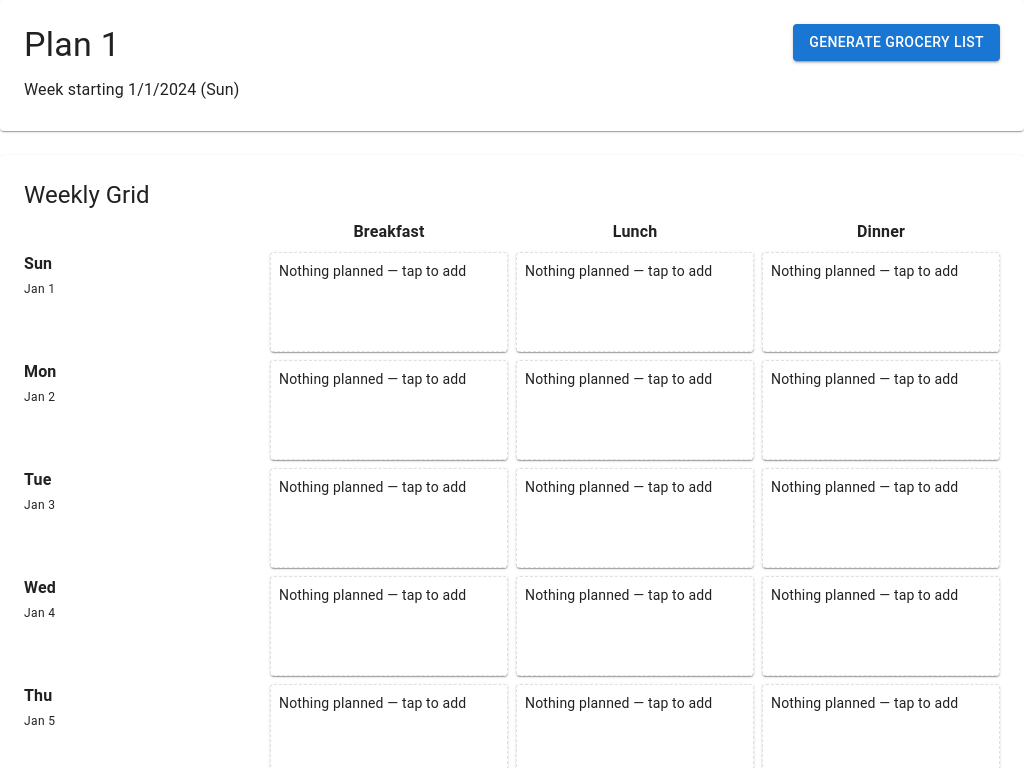
Scenario: meal plan detail page › slots, suggestions, and nutrition › links Create New Recipe out to the recipes page instead of a dead-end shell
This screenshot has width=1024, height=768.
Expected: the heading "Plan 1" is shown, x1=24 y1=24 x2=120 y2=64
Click the 1st button "Nothing planned — tap to add": click(389, 302) x1=270 y1=252 x2=508 y2=352
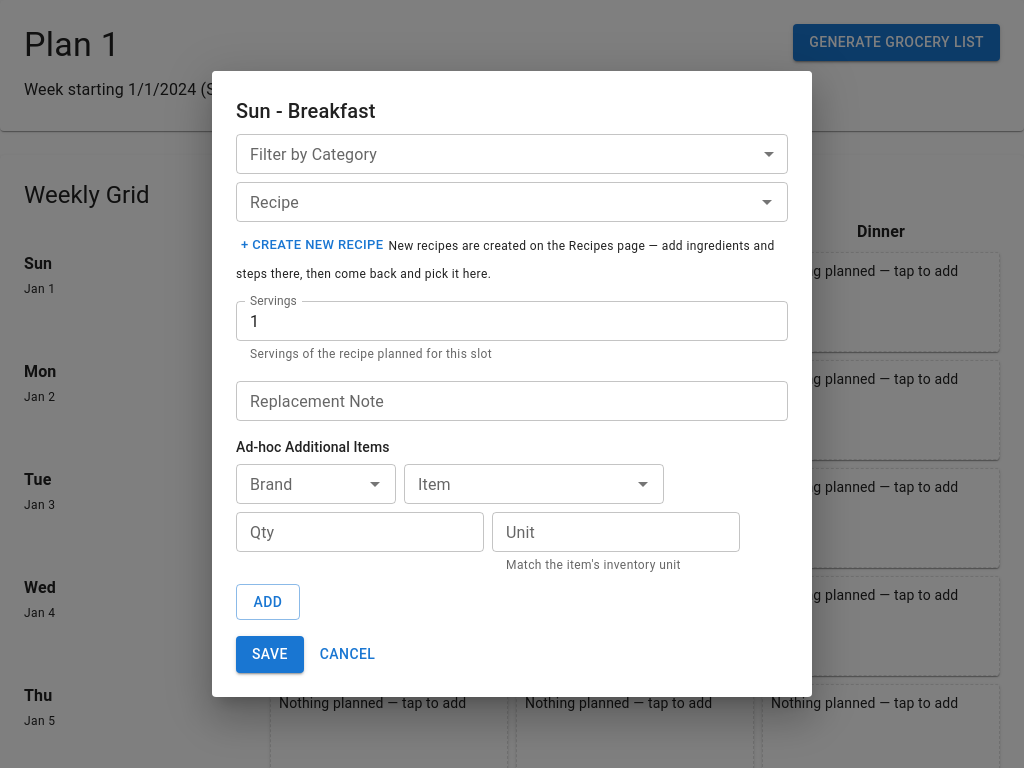
Expected: the heading "Sun - Breakfast" is shown, x1=236 y1=99 x2=376 y2=123
